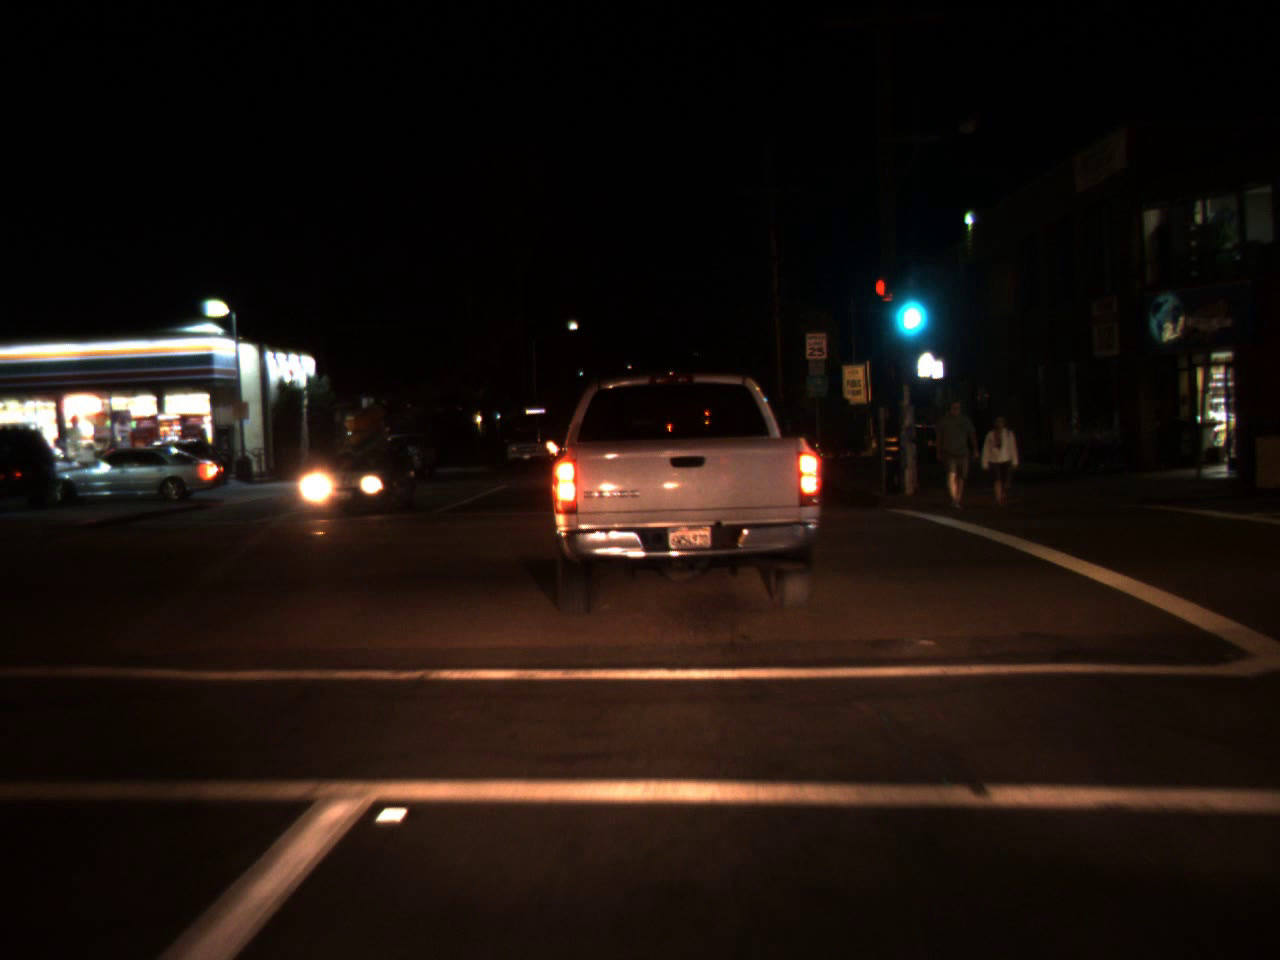go: (885, 265, 930, 343)
